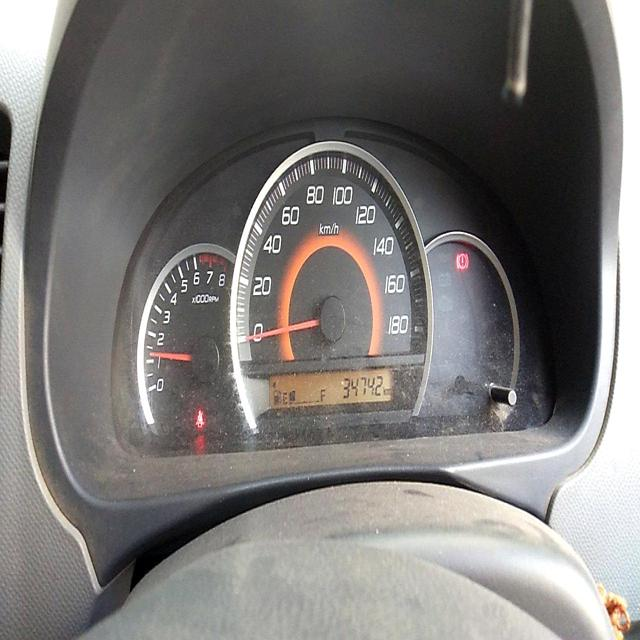odometer: (341, 368, 383, 401)
